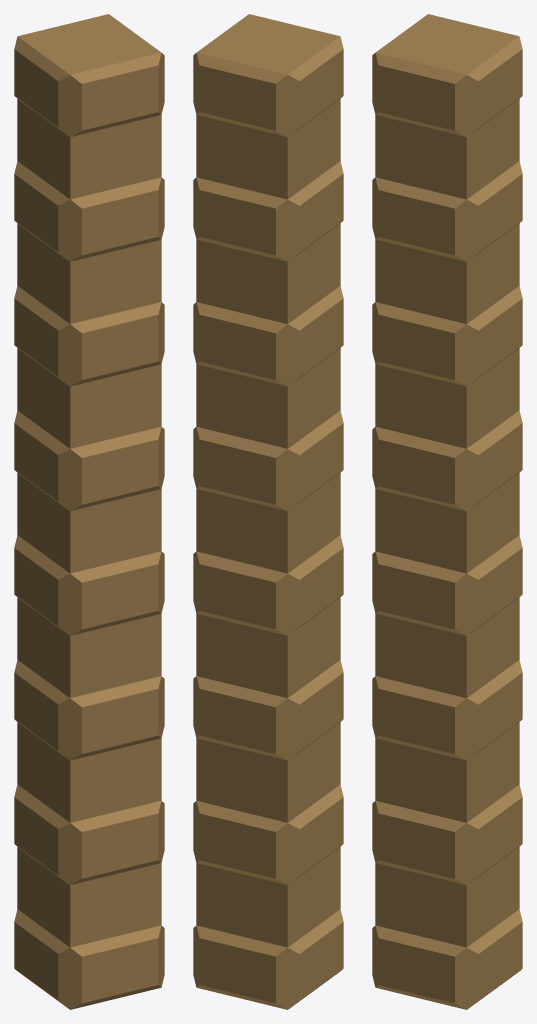
Rendered from CornerBricksC.fbx.
3 views of the same model, side by side, from view 1: azimuth 30°, elevation 25°; view 2: azimuth 150°, elevation 25°; view 3: azimuth 330°, elevation 25° (orthographic).
Visible parts, largest first — view 1: CornerBricksC; view 2: CornerBricksC; view 3: CornerBricksC.
Boxes of the visible parts, bbox=[...] form: CornerBricksC: bbox=[14, 14, 164, 1009]; CornerBricksC: bbox=[193, 14, 343, 1009]; CornerBricksC: bbox=[372, 14, 522, 1009].
Bounding box in the file's own units: 35.67 × 300 × 35.67.
